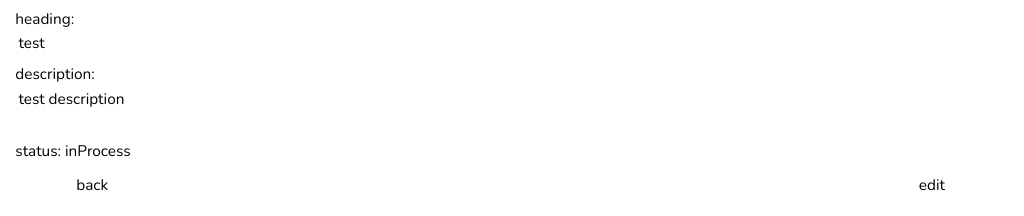
Test: ToDoItemDetails › should handle user events › should change status on click change status button
Click the button "edit".
click(932, 184)  # box [855,169,1009,200]
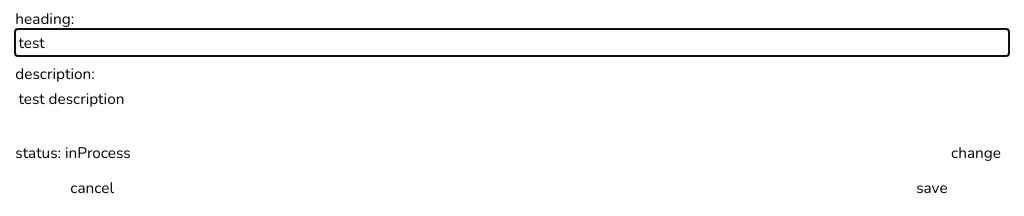
Click the button "change".
click(976, 152)  # box [943,140,1009,164]
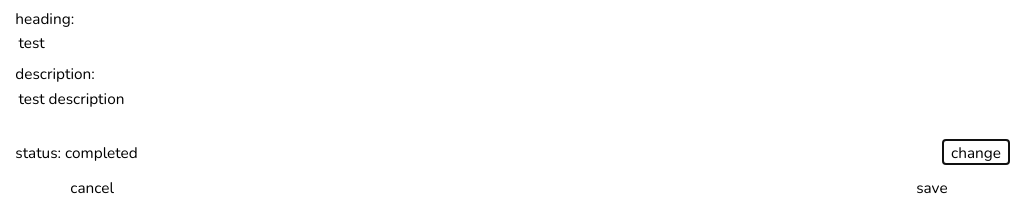
Expected: the text "status: inProcess" is gone
Expected: the text "status: completed" is shown, [15,142,138,163]
